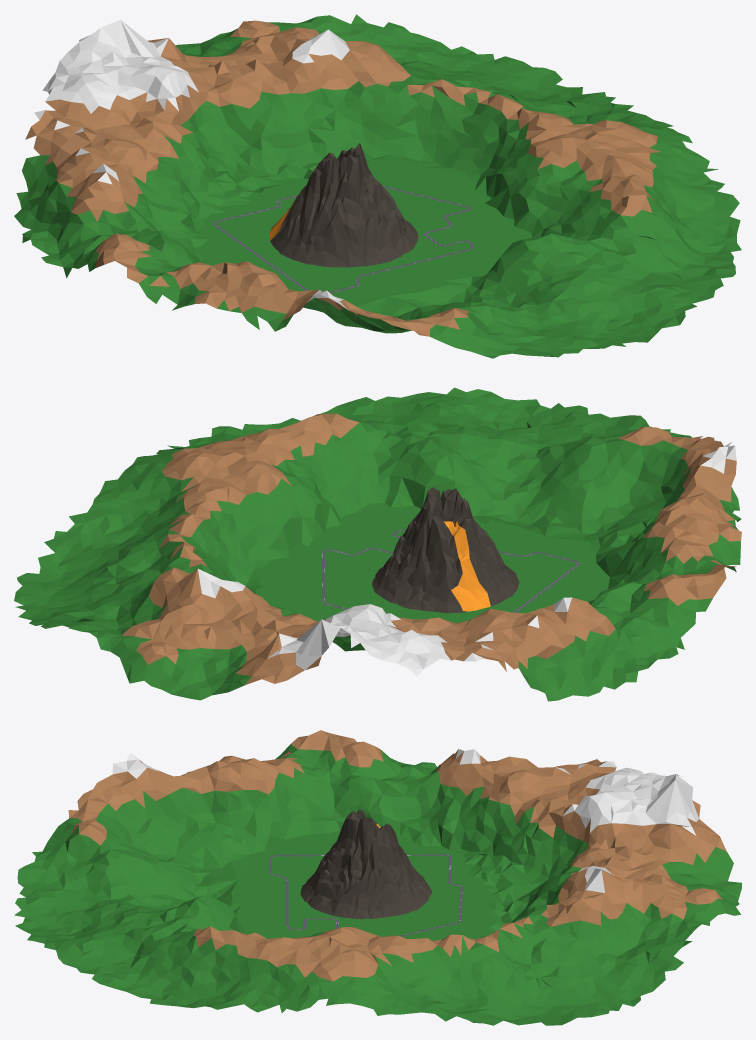
The model's file is VolcanoTrack5.fbx.
The picture shows the model from 3 angles, top to bottom: view 1: azimuth 30°, elevation 25°; view 2: azimuth 150°, elevation 25°; view 3: azimuth 270°, elevation 25°; orthographic projection. The views are drawn at different scales.
Parts seen in each view (by area): view 1: Landscape.002, Landscape.001, Plane.004; view 2: Landscape.002, Landscape.001, Plane.004; view 3: Landscape.002, Landscape.001, Plane.004.
Boxes of the visible parts, x1,y1,x2,y2 form: Landscape.002: (14, 14, 741, 358); Landscape.001: (269, 143, 418, 267); Plane.004: (213, 185, 473, 293); Landscape.002: (14, 387, 741, 701); Landscape.001: (372, 487, 519, 613); Plane.004: (321, 529, 579, 612); Landscape.002: (14, 730, 741, 1025); Landscape.001: (300, 810, 431, 919); Plane.004: (269, 854, 462, 936).
Size of the model in its own units: 458005 by 388872 by 71713.
